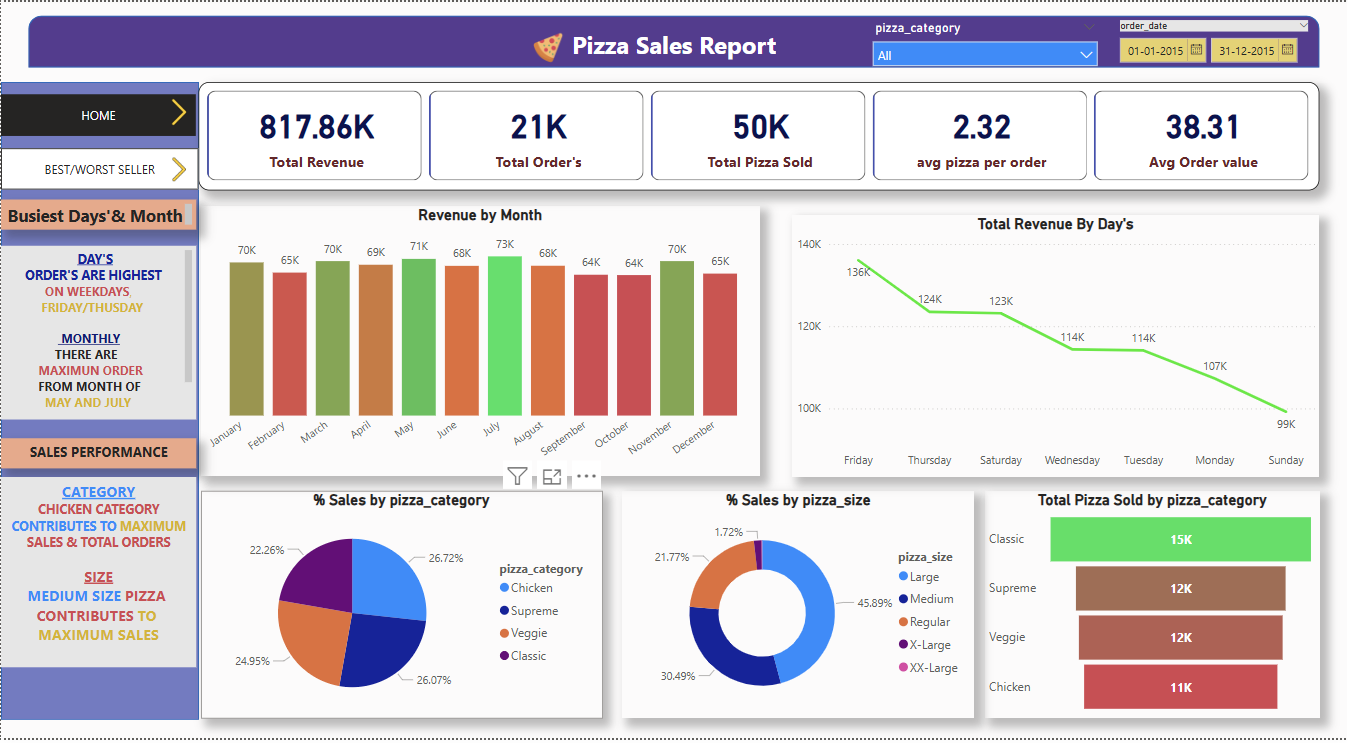

The dashboard page shown, as its layout file describes it:
{"tool":"powerbi","page":{"name":"HOME","canvas":[1500,820],"ordinal":0},"visuals":[{"type":"shape","box":[0,88.5,220.5,710.7],"z":0},{"type":"textbox","box":[0,220.5,217.7,33.7],"z":1000},{"type":"cardVisual","fields":{"Data":["pizza_sales2.Total Revenue","pizza_sales2.Total Order's","pizza_sales2.Total Pizza Sold","pizza_sales2.avg  pizza per order","pizza_sales2.Avg Order value"]},"box":[220.5,88.5,1248.6,120.8],"z":2000},{"type":"shape","box":[30.9,15.4,1438.2,57.6],"z":3000},{"type":"image","box":[585.7,29.5,46.3,43.5],"z":4000},{"type":"lineChart","title":"Total Revenue By Day''s","fields":{"Category":["pizza_sales2.Day Name"],"Y":["pizza_sales2.Total Revenue"]},"box":[882,237.4,587.1,292.1],"z":5000},{"type":"columnChart","title":" Revenue by Month","fields":{"Category":["pizza_sales2.order_date.Variation.Date Hierarchy.Month"],"Y":["pizza_sales2.Total Revenue"]},"box":[223.3,227.5,622.2,302],"z":6000},{"type":"pieChart","title":"% Sales by pizza_category","fields":{"Category":["pizza_sales2.pizza_category"],"Y":["Avg(pizza_sales2.total_price)"]},"box":[223.2,544.4,446.4,253.6],"z":7000},{"type":"donutChart","title":"% Sales by pizza_size","fields":{"Category":["pizza_sales2.pizza_size"],"Y":["Sum(pizza_sales2.total_price)"]},"box":[691.5,544.4,392.3,253.6],"z":8000},{"type":"funnel","title":"Total Pizza Sold by pizza_category","fields":{"Category":["pizza_sales2.pizza_category"],"Y":["Sum(pizza_sales2.quantity)"]},"box":[1095.6,544.4,373.7,253.6],"z":9000},{"type":"textbox","box":[0,271.1,217.7,193.8],"z":10000},{"type":"textbox","box":[0,486,217.7,33.7],"z":11000},{"type":"textbox","box":[0,529.5,217.7,212.1],"z":12000},{"type":"slicer","fields":{"Values":["pizza_sales2.pizza_category"]},"box":[960.3,15.2,270.5,57.5],"z":13000},{"type":"slicer","fields":{"Values":["pizza_sales2.order_date"]},"box":[1234.2,15.2,235,72.7],"z":13001},{"type":"pageNavigator","box":[0,102.5,217.7,46.3],"z":13002},{"type":"pageNavigator","box":[0,162.9,220.5,46.3],"z":13003},{"type":"image","box":[136.2,102.5,123.6,39.3],"z":13004},{"type":"image","box":[136.2,168.5,123.6,36.5],"z":13005}]}

Visuals, with their boxes in screenshot pixels (x1, y1, x2, y2), scaled from the page's 1500x820 canvas onto the 1347x743 screenshot:
shape: 0, 80, 198, 724
textbox: 0, 200, 195, 230
cardVisual - pizza_sales2.Total Revenue x pizza_sales2.Total Order's: 198, 80, 1319, 190
shape: 28, 14, 1319, 66
image: 526, 27, 568, 66
"Total Revenue By Day''s" lineChart: 792, 215, 1319, 480
" Revenue by Month" columnChart: 201, 206, 759, 480
"% Sales by pizza_category" pieChart: 200, 493, 601, 723
"% Sales by pizza_size" donutChart: 621, 493, 973, 723
"Total Pizza Sold by pizza_category" funnel: 984, 493, 1319, 723
textbox: 0, 246, 195, 421
textbox: 0, 440, 195, 471
textbox: 0, 480, 195, 672
slicer - pizza_sales2.pizza_category: 862, 14, 1105, 66
slicer - pizza_sales2.order_date: 1108, 14, 1319, 80
pageNavigator: 0, 93, 195, 135
pageNavigator: 0, 148, 198, 190
image: 122, 93, 233, 128
image: 122, 153, 233, 186
